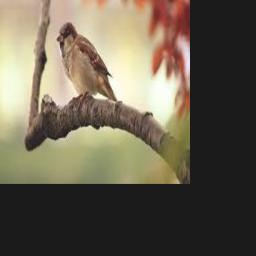Sparrow: (56, 22, 118, 102)
